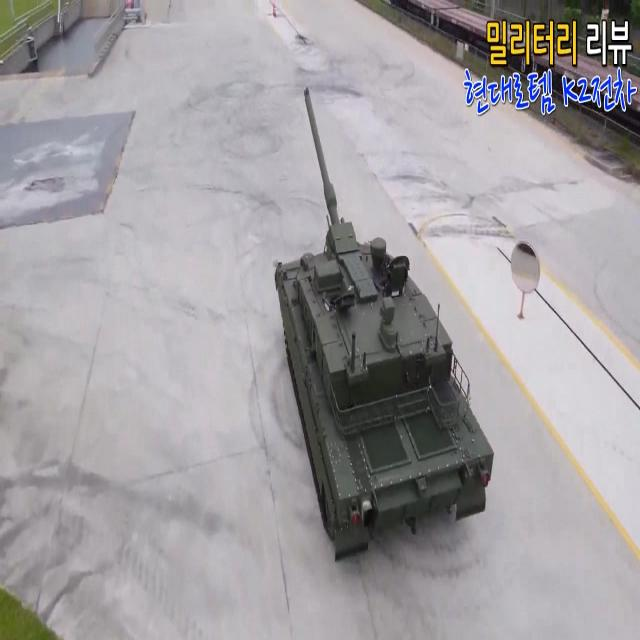korea tank: (275, 87, 495, 565)
